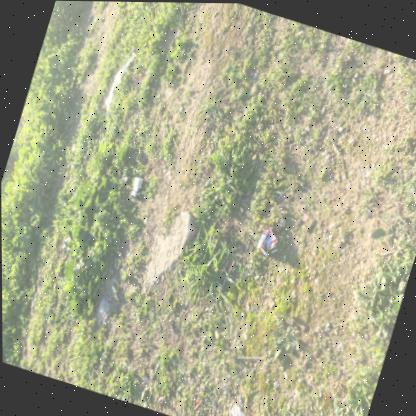Paper: (255, 226, 276, 254), (129, 176, 142, 199)
Plastic: (104, 52, 134, 109)
Waste: (270, 247, 276, 252)
